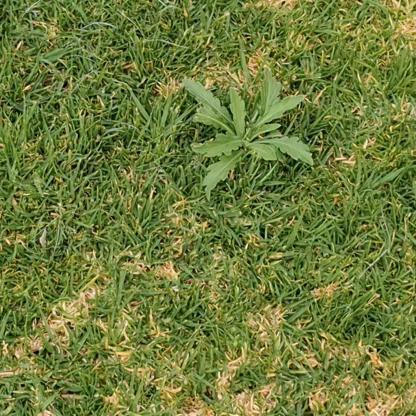Weeds: (181, 70, 314, 202)
